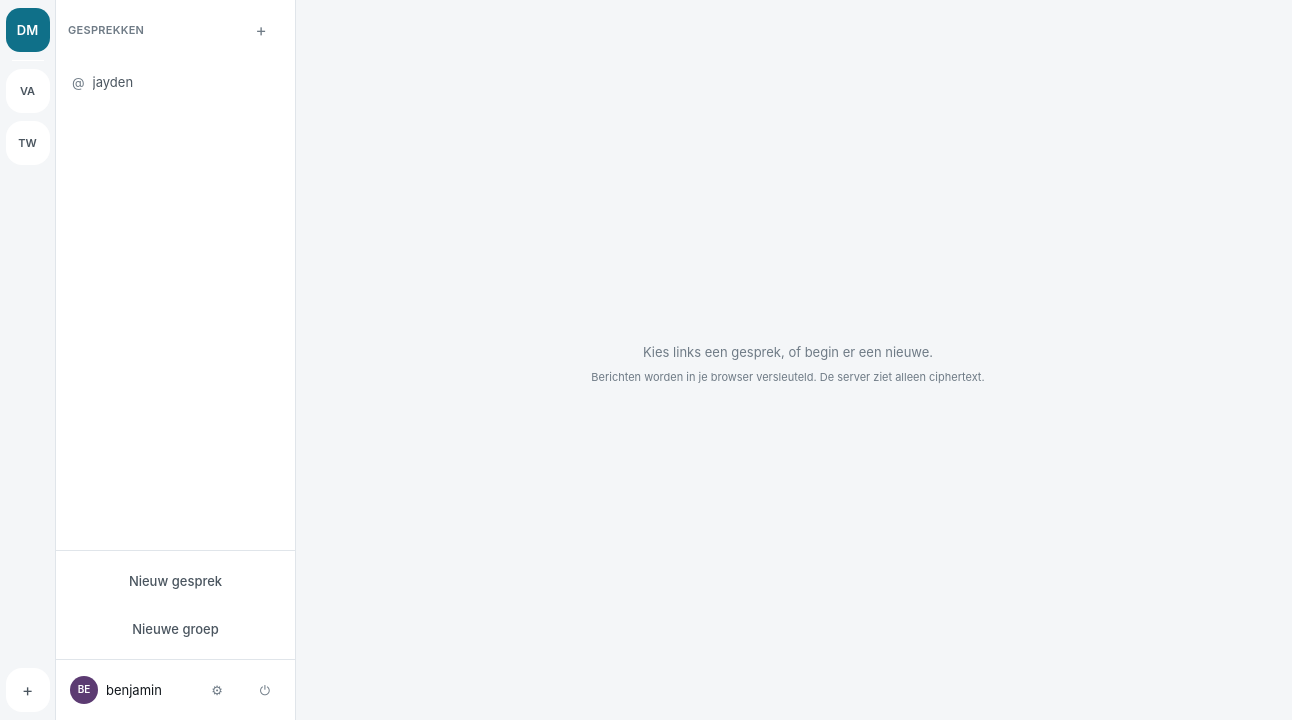
Scenario: C — one column at a time on a phone › still opens the first channel of a server on a wide screen
Check: the heading "Gesprekken" is shown, box [68,23,144,37]
Click the button titled "Vault HQ": [28, 91] box [6,69,50,113]
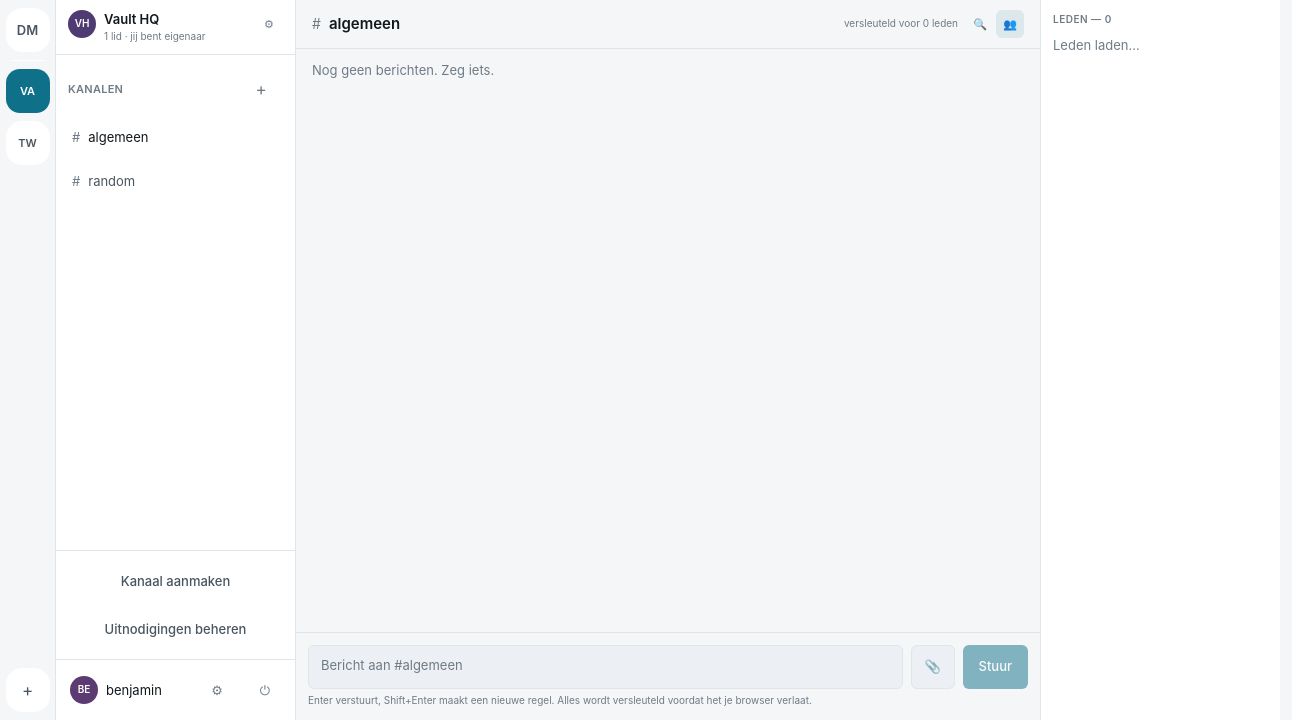
Check: the heading "Kanalen" is shown, box [68,82,123,96]
